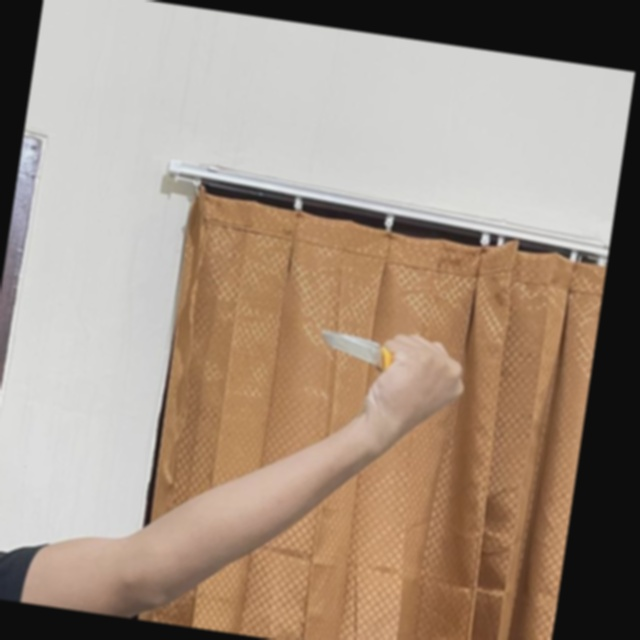Sharp-Object: (316, 328, 406, 376)
